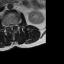CCS_normal: (10, 22, 12, 31)
LFS_stenosis: (14, 22, 16, 28)
LLS_stenosis: (12, 22, 14, 28)
RFS_stenosis: (6, 23, 8, 28)
RLS_stenosis: (8, 22, 10, 28)
